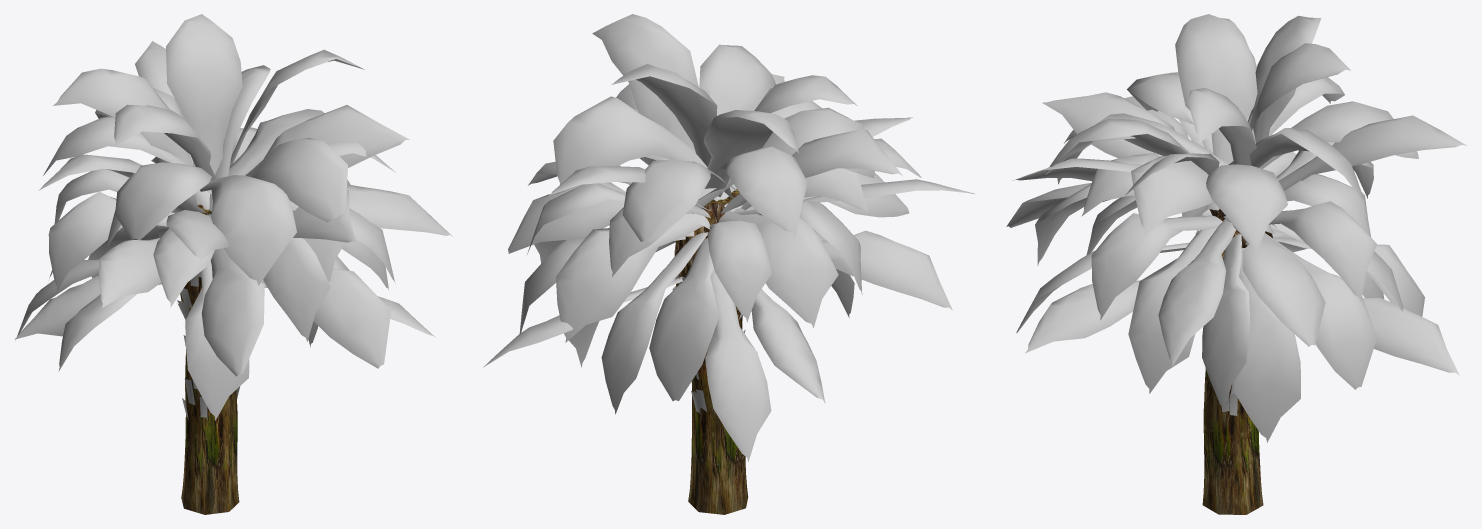
Rendered from Banana_tree.fbx.
3 renders of one model, left to right at view 1: azimuth 30°, elevation 25°; view 2: azimuth 150°, elevation 25°; view 3: azimuth 270°, elevation 25°, orthographic. The views are drawn at different scales.
Parts seen in each view (by area): view 1: LOD0; view 2: LOD0; view 3: LOD0.
Boxes of the visible parts, <box> form: LOD0: <box>14,14,452,514</box>; LOD0: <box>483,14,974,514</box>; LOD0: <box>1006,14,1466,514</box>.
Size of what is drawn, in the model's own units: 11.7 by 12.37 by 11.02.
